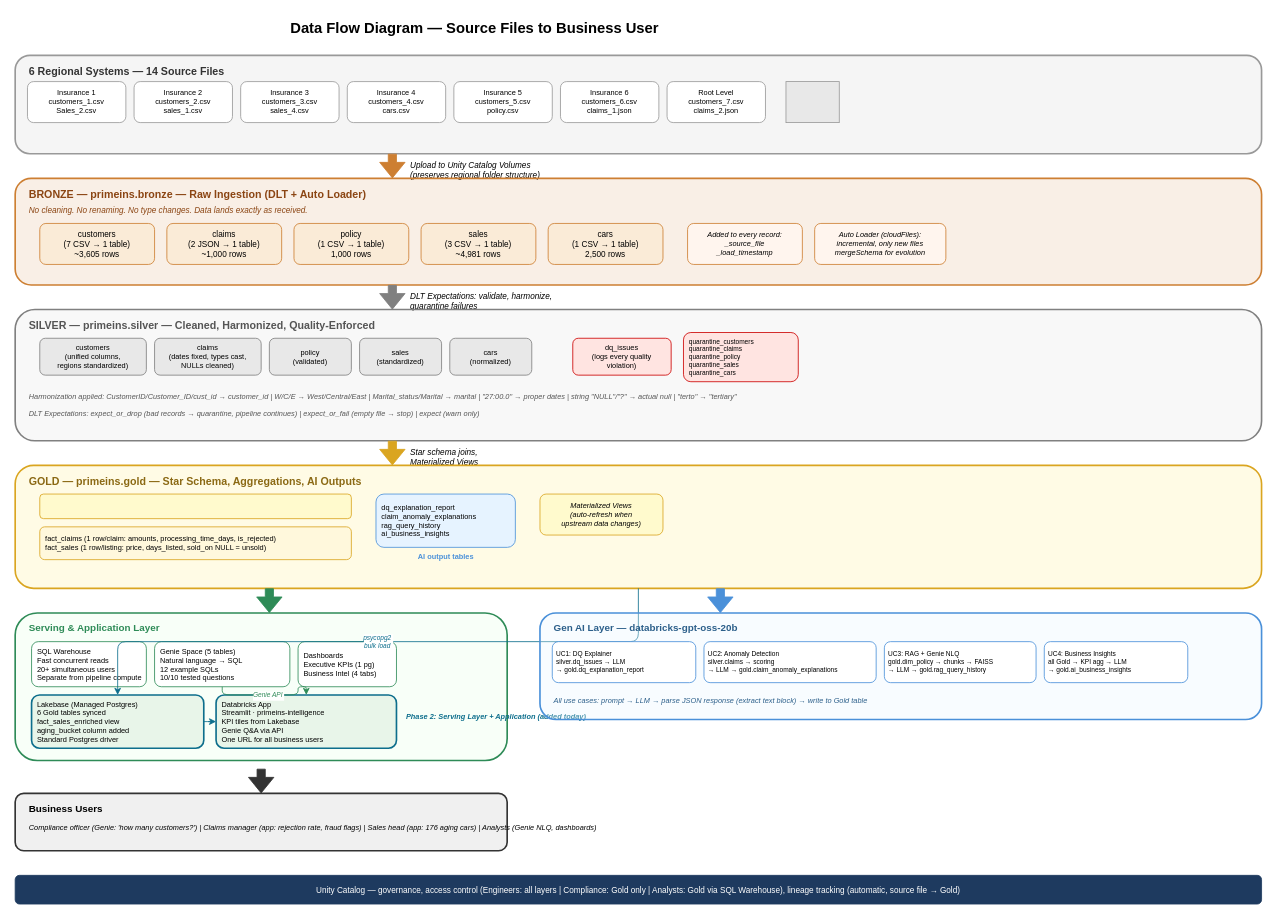
This 1276x918 diagram has some shape labels left out. The centre of each missing label's shape, as x and y in pixels:
"12 CSV 2 JSON" goes at pixel 812 102.
"dim_customer dim_policy dim_car dim_region" goes at pixel 195 506.
